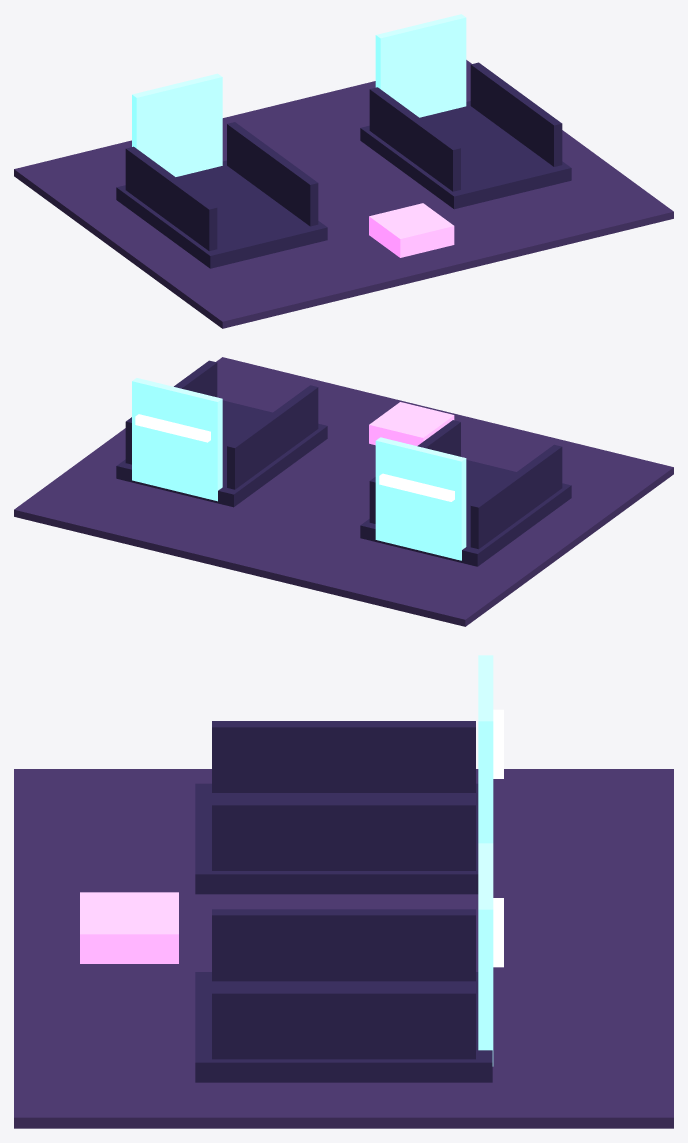
Rendered from 13_subway_entrance_pair.glb.
3 renders of one model, top to bottom at view 1: azimuth 30°, elevation 25°; view 2: azimuth 150°, elevation 25°; view 3: azimuth 270°, elevation 25°, orthographic. The views are drawn at different scales.
Parts seen in each view (by area): view 1: plaza_0, stair_well_1, stair_well_6, entry_sign_7, entry_sign_2, rail_R_9, rail_L_3, rail_R_4, rail_L_8, map_pylon_11; view 2: plaza_0, entry_sign_2, entry_sign_7, rail_L_3, rail_L_8, stair_well_6, stair_well_1, map_pylon_11, rail_R_9, rail_R_4, nameplate_5, nameplate_10; view 3: plaza_0, rail_L_8, rail_R_9, rail_L_3, rail_R_4, stair_well_6, stair_well_1, map_pylon_11, entry_sign_7, entry_sign_2, nameplate_5, nameplate_10.
Boxes of the visible parts, bbox=[...] form: plaza_0: bbox=[14, 60, 673, 328]; stair_well_1: bbox=[116, 160, 327, 268]; stair_well_6: bbox=[360, 101, 571, 209]; entry_sign_7: bbox=[375, 14, 466, 117]; entry_sign_2: bbox=[132, 73, 222, 176]; rail_R_9: bbox=[470, 62, 562, 166]; rail_L_3: bbox=[125, 146, 217, 251]; rail_R_4: bbox=[227, 122, 318, 226]; rail_L_8: bbox=[369, 87, 460, 191]; map_pylon_11: bbox=[369, 203, 454, 257]; plaza_0: bbox=[14, 357, 673, 626]; entry_sign_2: bbox=[375, 437, 466, 560]; entry_sign_7: bbox=[132, 378, 222, 501]; rail_L_3: bbox=[470, 444, 562, 549]; rail_L_8: bbox=[227, 385, 318, 489]; stair_well_6: bbox=[116, 400, 327, 507]; stair_well_1: bbox=[360, 460, 571, 566]; map_pylon_11: bbox=[369, 402, 454, 445]; rail_R_9: bbox=[125, 360, 217, 464]; rail_R_4: bbox=[369, 420, 460, 523]; nameplate_5: bbox=[379, 473, 454, 501]; nameplate_10: bbox=[135, 414, 210, 442]; plaza_0: bbox=[14, 769, 673, 1128]; rail_L_8: bbox=[212, 909, 475, 981]; rail_R_9: bbox=[212, 987, 475, 1059]; rail_L_3: bbox=[212, 721, 475, 792]; rail_R_4: bbox=[212, 799, 475, 870]; stair_well_6: bbox=[195, 972, 492, 1082]; stair_well_1: bbox=[195, 783, 478, 894]; map_pylon_11: bbox=[80, 892, 178, 963]; entry_sign_7: bbox=[478, 843, 493, 1066]; entry_sign_2: bbox=[478, 655, 493, 843]; nameplate_5: bbox=[493, 709, 503, 778]; nameplate_10: bbox=[493, 898, 503, 967].
Bounding box in the file's own units: 10 × 2.3 × 8.
